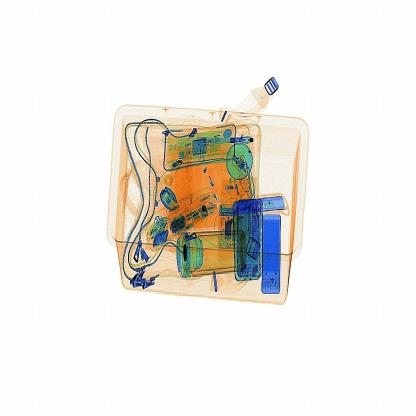pliers: (230, 188, 303, 223)
